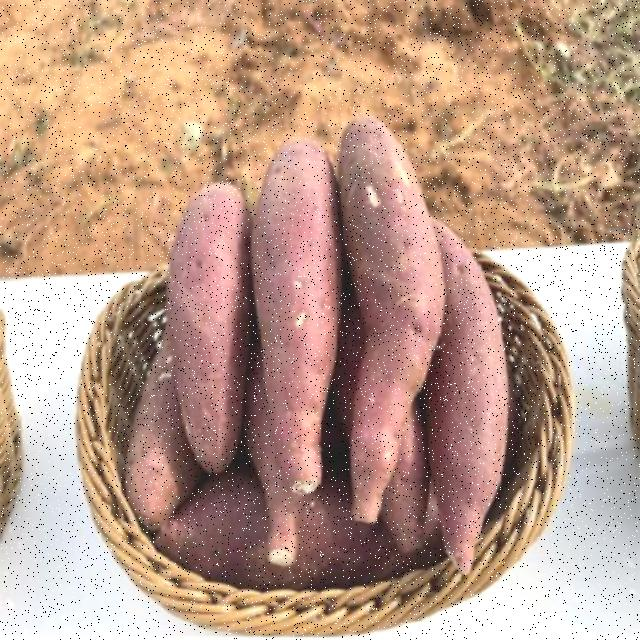Sweet Potato: (326, 99, 451, 546), (242, 102, 335, 509)
